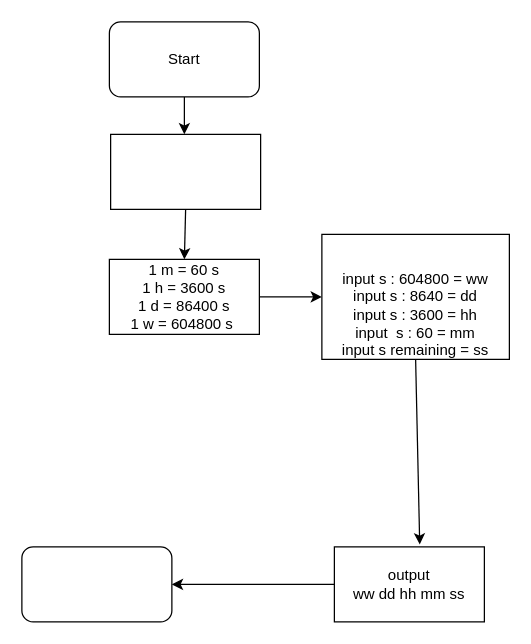
This 531x644 diagram has some shape labels left out. The shapes that lost their labels are listed below. From the top down, each one's centre as x and y in pixels, then its label:
At (185,171): "Input s".
At (96,584): "END".
